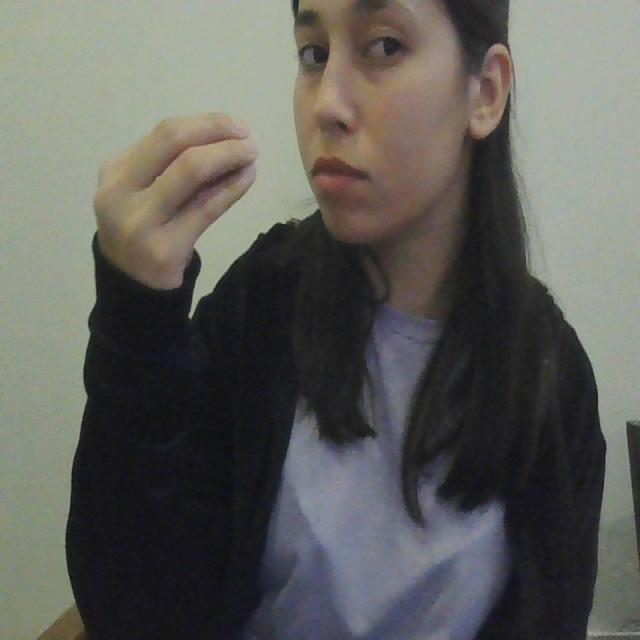Yemek: (87, 110, 339, 218)
